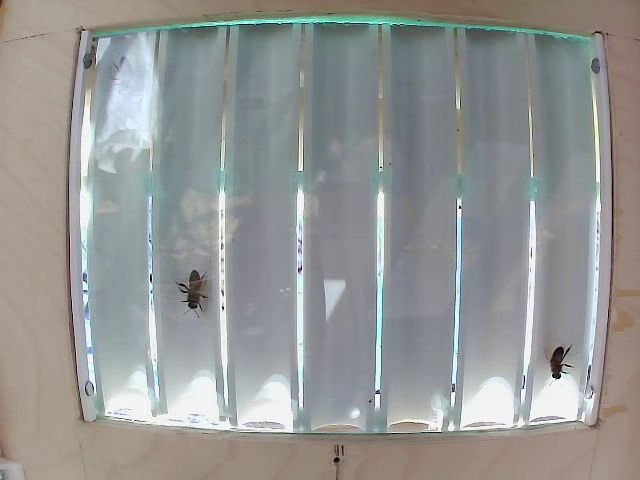bee: (170, 258, 223, 312), (543, 340, 575, 383)
